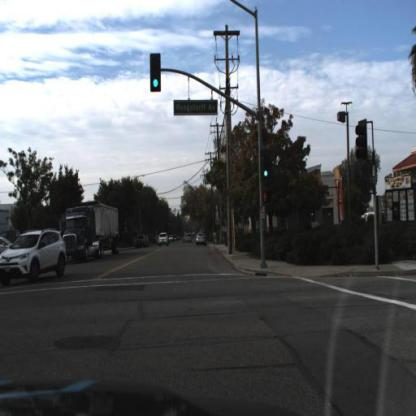car: (1, 231, 68, 287), (1, 236, 18, 256), (195, 228, 209, 245), (157, 232, 170, 248)
trafficLight-Green: (151, 55, 161, 93), (261, 151, 272, 184)
truck: (55, 201, 124, 264), (64, 200, 118, 260)
